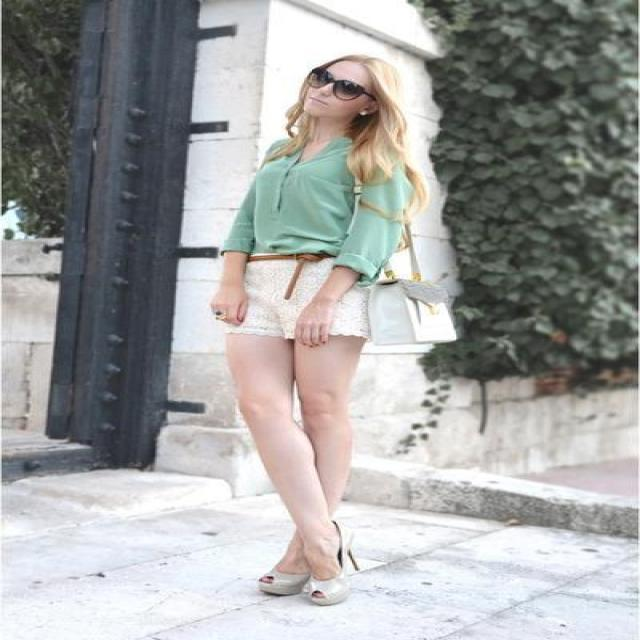bag: (365, 270, 416, 301)
shirt: (229, 129, 405, 287)
shoe: (258, 564, 380, 606)
shorts: (245, 259, 390, 337)
sunglass: (307, 58, 363, 88)
